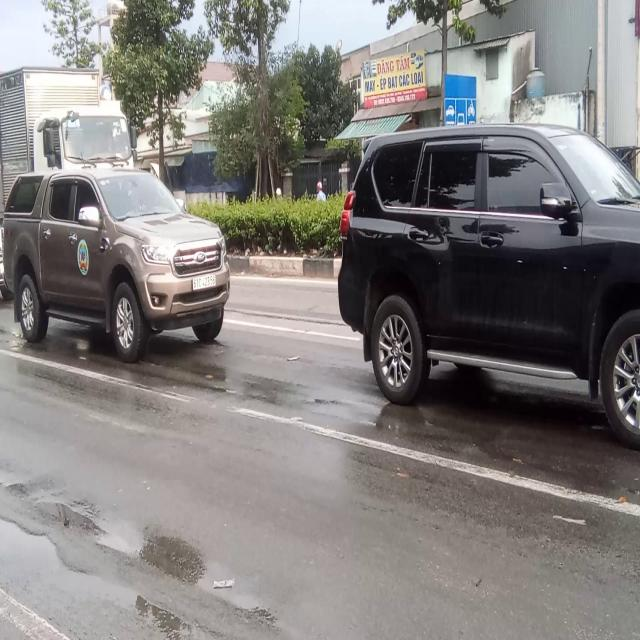bien_trang: (188, 272, 218, 300)
